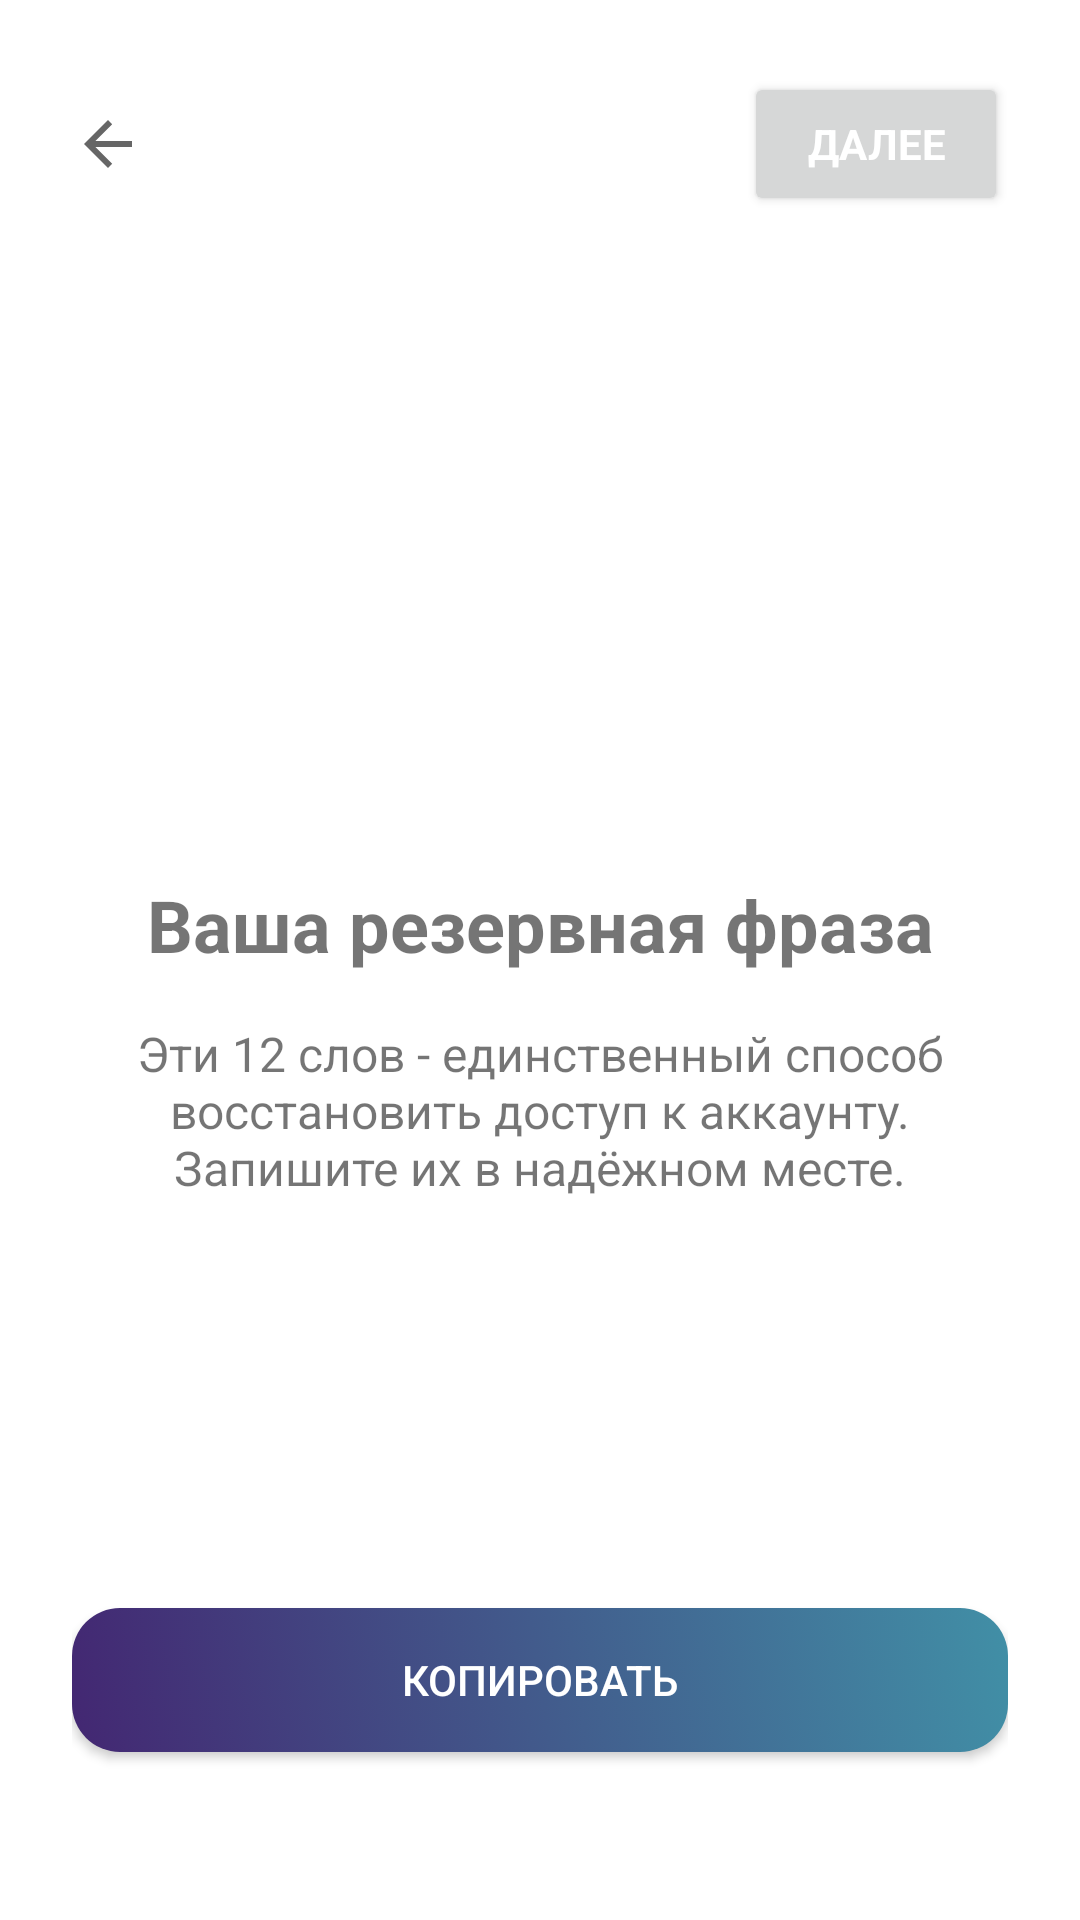

Named icons in this screenshot (1080px×1920px) and their bounding boxes, (x1, y1, x2, y2):
Назад: (84, 120, 132, 168)
